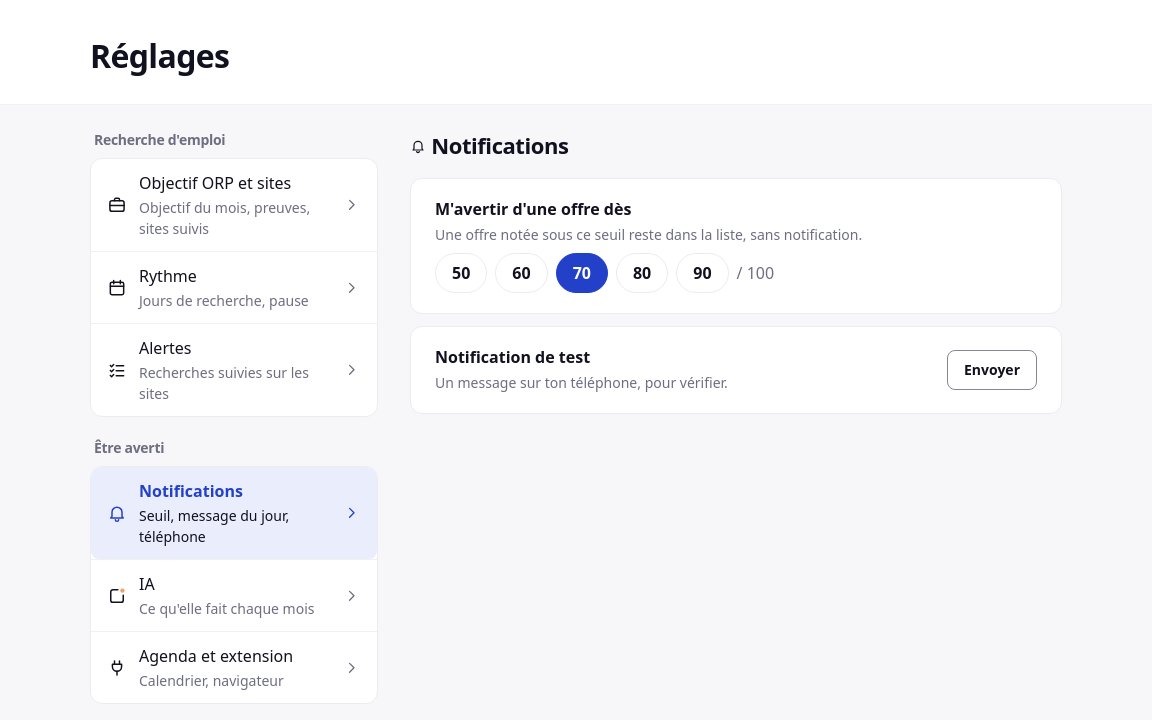
Test: Des Réglages épurés (docs/106) › une rubrique, une carte ; le seuil en pastilles, enregistré au clic
The image size is (1152, 720).
expect the number of elements with test id "settings-card" is 1: met, box [410,178,1062,414]
Click the radio button with test id "threshold-80" at (642, 273), box [616,253,668,293]
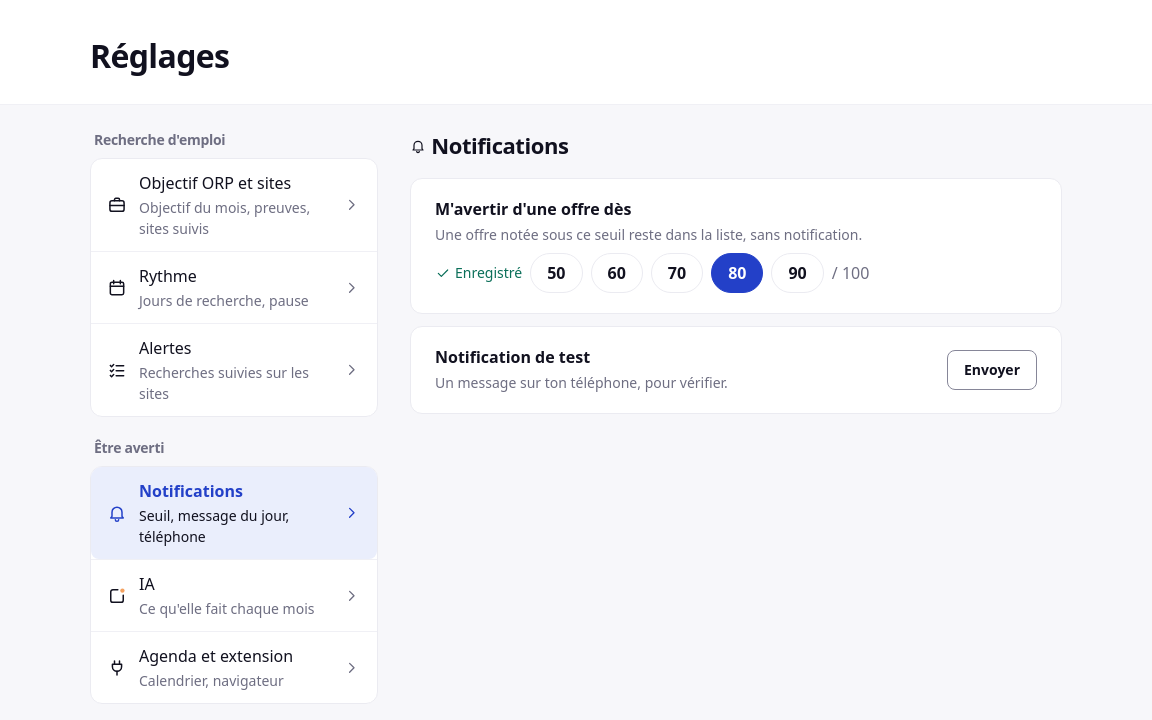
expect the text with class "busy-label" reads "Envoyer": met, box [964,360,1020,379]
expect the message with test id "setting-saved" reads "Enregistré": met, box [455,263,522,282]
